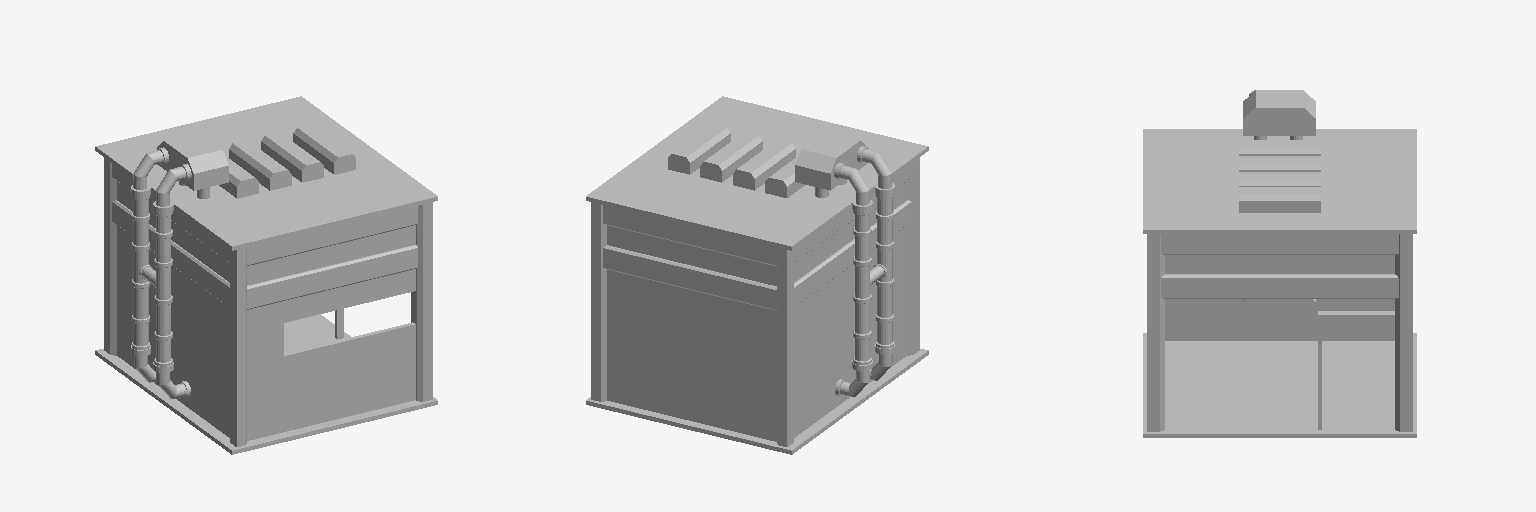
The model's file is Slum_house_08.obj.
3 views of the same model, side by side, from view 1: azimuth 30°, elevation 25°; view 2: azimuth 150°, elevation 25°; view 3: azimuth 270°, elevation 25° (orthographic).
Parts seen in each view (by area): view 1: Slum_house_08; view 2: Slum_house_08; view 3: Slum_house_08.
Boxes of the visible parts, box(x1,y1,x2,y2) form: Slum_house_08: box(95, 96, 437, 454); Slum_house_08: box(586, 96, 928, 454); Slum_house_08: box(1143, 90, 1416, 437).
Bounding box in the file's own units: 488 × 517 × 508.